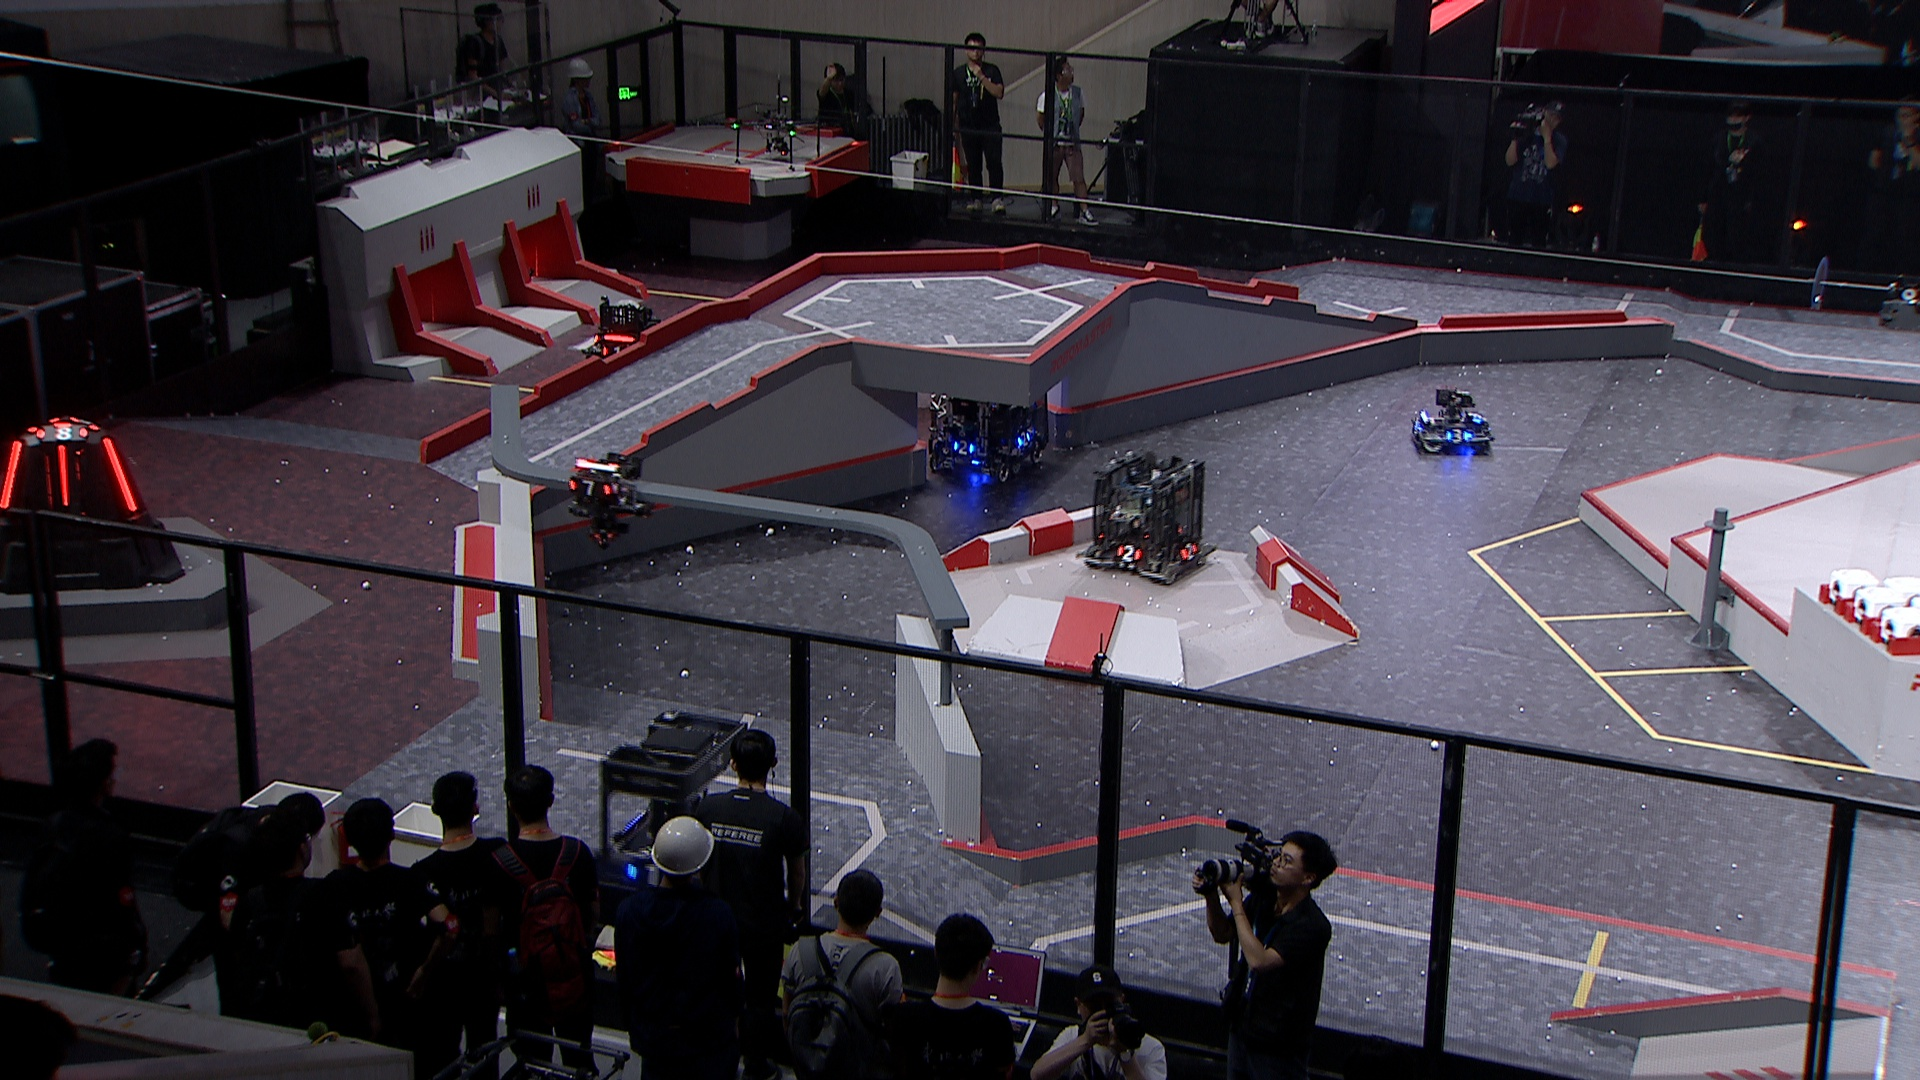armor: (102, 433, 136, 512), (624, 861, 666, 887), (54, 443, 71, 506), (36, 425, 84, 440), (571, 479, 612, 496), (1116, 543, 1143, 564), (951, 436, 977, 456), (1179, 545, 1203, 560), (599, 344, 622, 357), (1015, 429, 1031, 447), (1448, 429, 1468, 443), (1466, 410, 1485, 425), (1411, 418, 1422, 436)
car: (593, 712, 770, 898), (1077, 447, 1212, 585), (920, 357, 1058, 487), (582, 295, 665, 377), (1408, 389, 1498, 458)
watcher: (564, 451, 654, 549)
